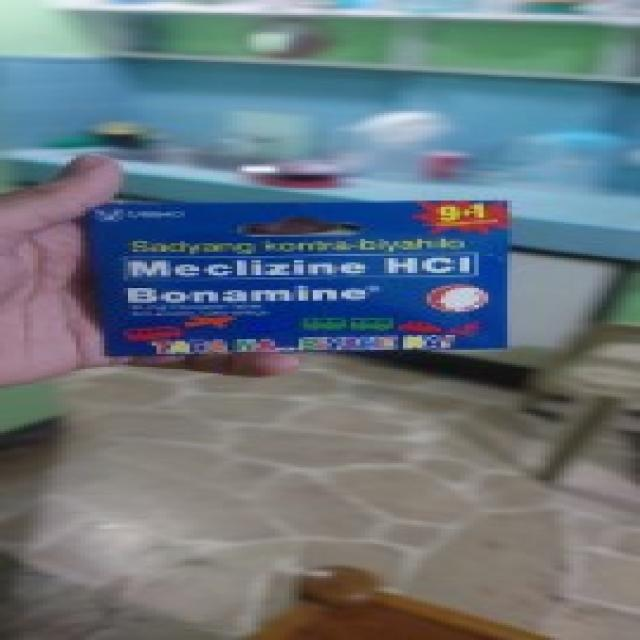Cacat: (76, 199, 514, 353)
